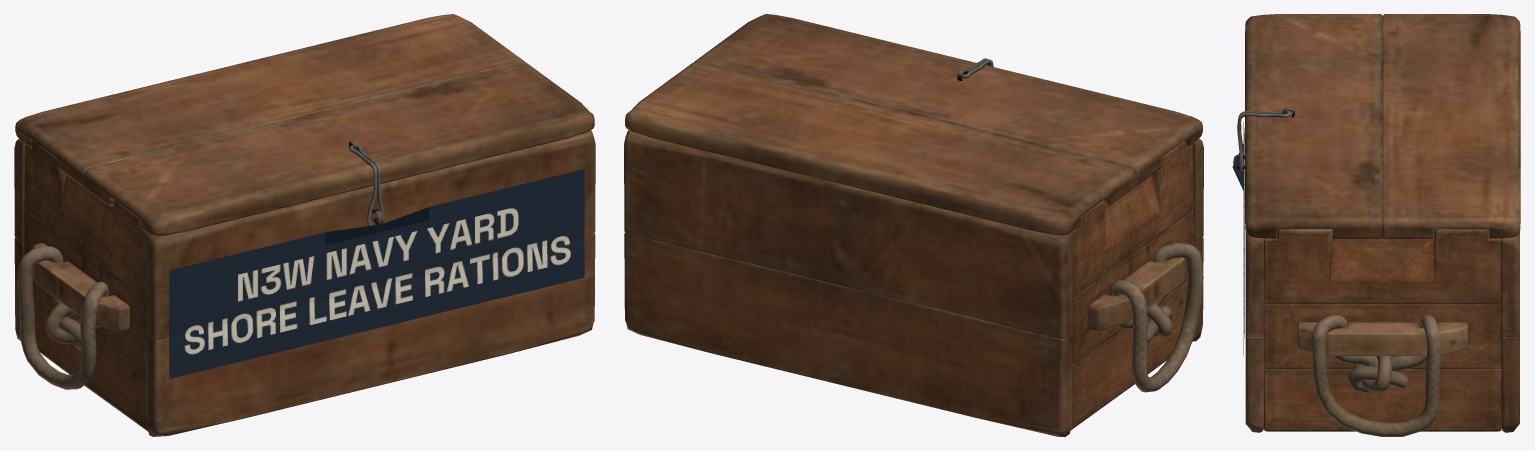
The model's file is nyb_ontown_crate1.glb.
3 views of the same model, side by side, from view 1: azimuth 30°, elevation 25°; view 2: azimuth 150°, elevation 25°; view 3: azimuth 270°, elevation 25° (orthographic). The views are drawn at different scales.
Parts seen in each view (by area): view 1: wooden_crate_01_lid, stk_lbl_6b76a9056e.png; view 2: wooden_crate_01_lid; view 3: wooden_crate_01_lid, stk_lbl_6b76a9056e.png.
Part boxes in pixels (<box>): wooden_crate_01_lid: <box>14,14,595,436</box>; stk_lbl_6b76a9056e.png: <box>169,169,584,378</box>; wooden_crate_01_lid: <box>624,14,1203,436</box>; wooden_crate_01_lid: <box>1233,14,1520,436</box>; stk_lbl_6b76a9056e.png: <box>1232,122,1244,355</box>.
Bounding box in the file's own units: 0.8253 × 0.3496 × 0.4103.
2 materials, 2 textured.
